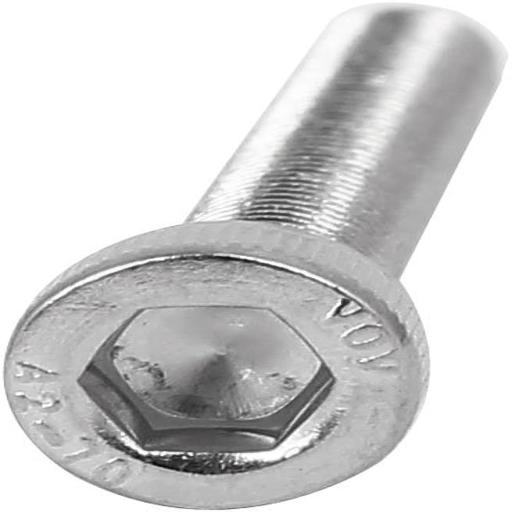Hex-Allen: (10, 217, 432, 507)
